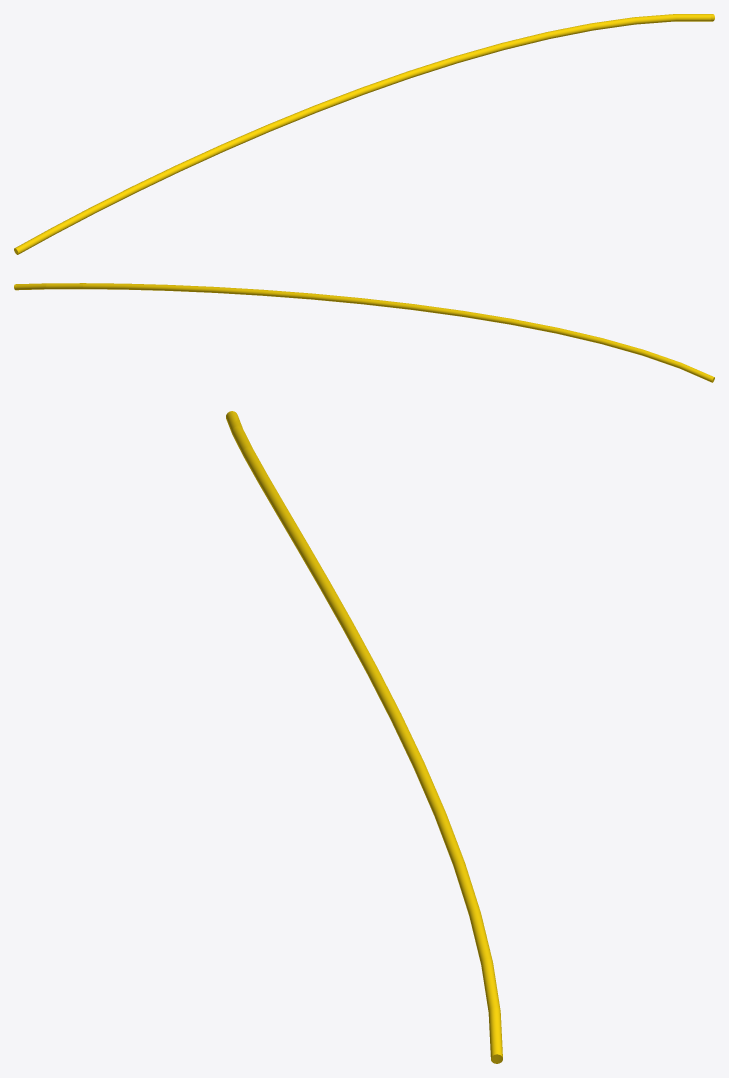
The model's file is Event_421115418_track_166.fbx.
3 views of the same model, one above another, from view 1: azimuth 30°, elevation 25°; view 2: azimuth 150°, elevation 25°; view 3: azimuth 270°, elevation 25° (orthographic). The views are drawn at different scales.
Visible parts, largest first — view 1: Model; view 2: Model; view 3: Model.
Part boxes in pixels (left/top/right/bottom): Model: left=14, top=14, right=714, bottom=254; Model: left=14, top=283, right=714, bottom=382; Model: left=226, top=411, right=502, bottom=1063.
Bounding box in the file's own units: 4.79 × 0.3344 × 0.9084.
